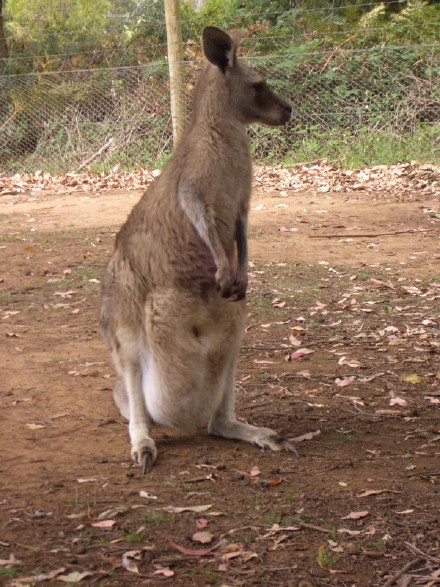kangaroo: (96, 20, 296, 478)
